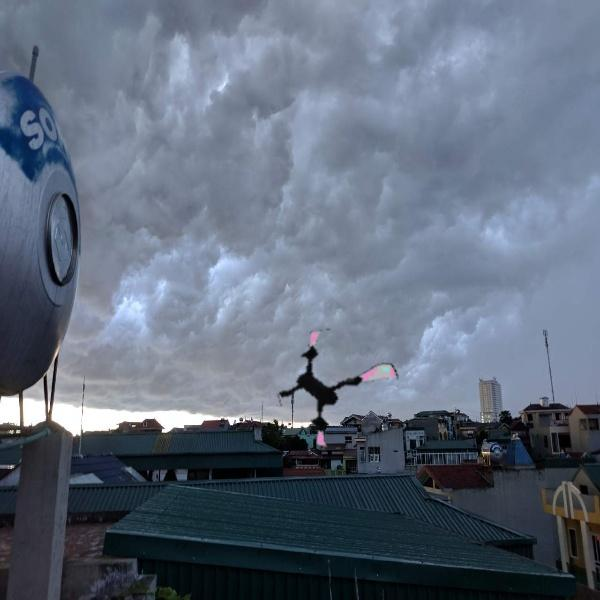drone: (270, 322, 405, 457)
